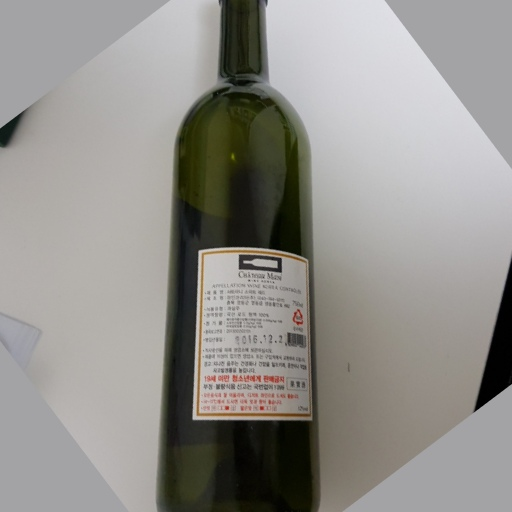Glass_2: (157, 2, 323, 512)
